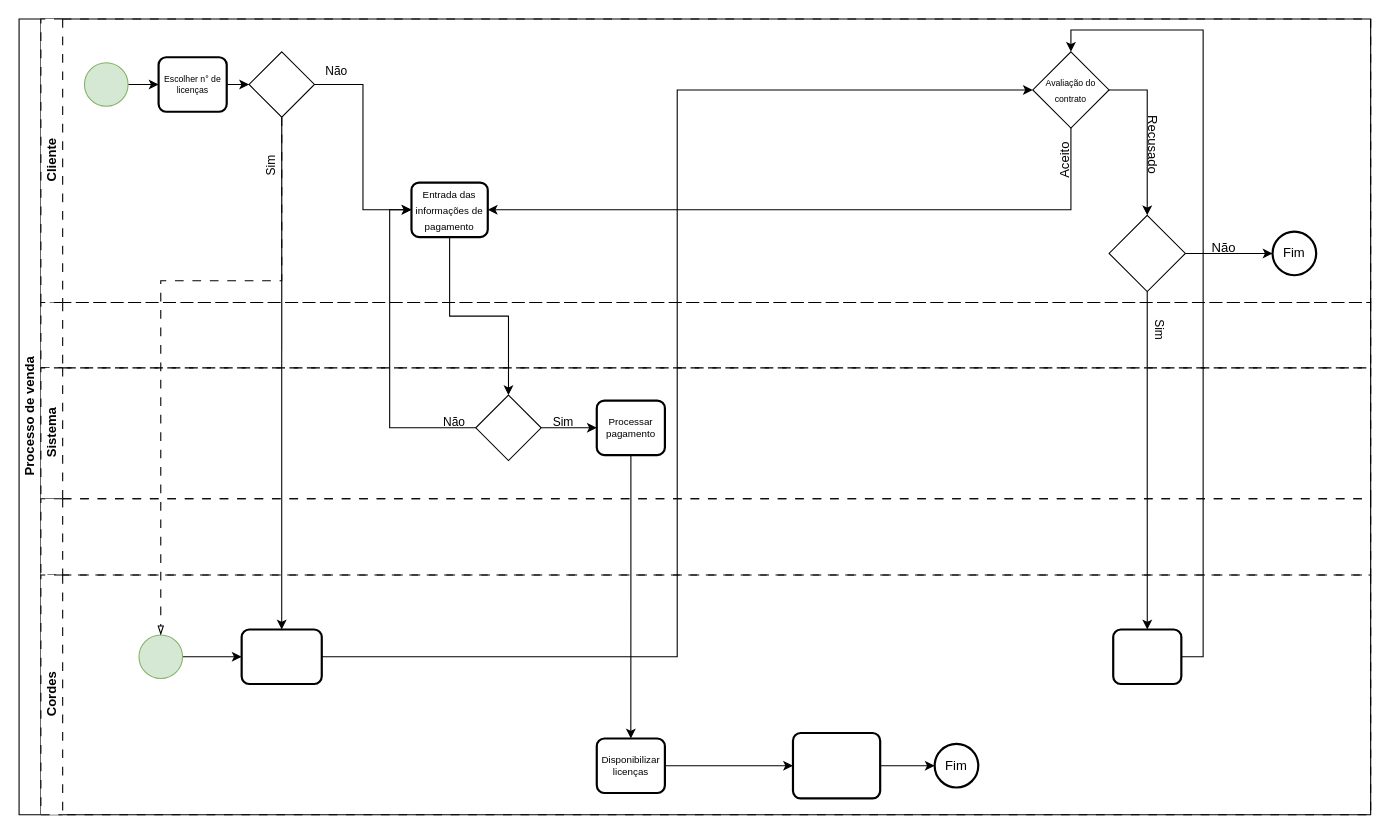
This 1390x834 diagram has some shape labels left out. Here are the shapes that lost their labels. From the top down, the centre of each, then its label:
(281,84): É B2B?
(1146,253): Deseja continuar?
(508,427): Informações são válidas?
(281,656): Estabelecer condições do contrato
(1147,656): Reestipular contrato
(836,765): Iniciar processos dos serviços do contrato em caso de ser B2B
